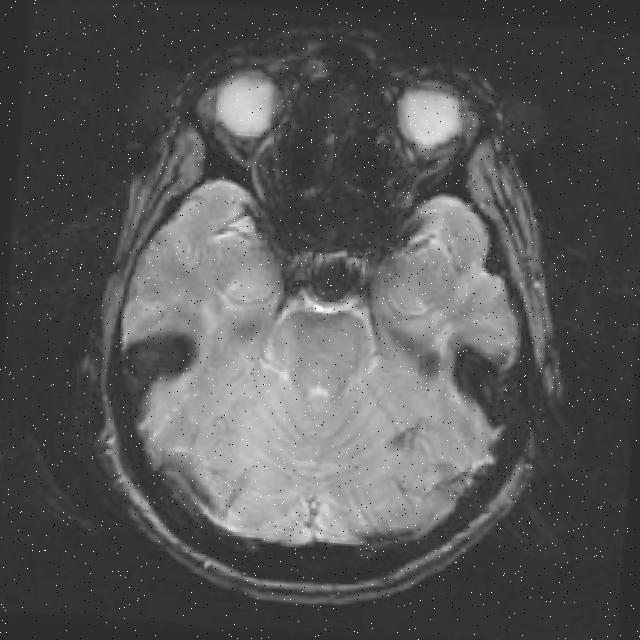EMCI: (122, 324, 214, 432), (446, 324, 530, 432), (383, 312, 432, 386)
